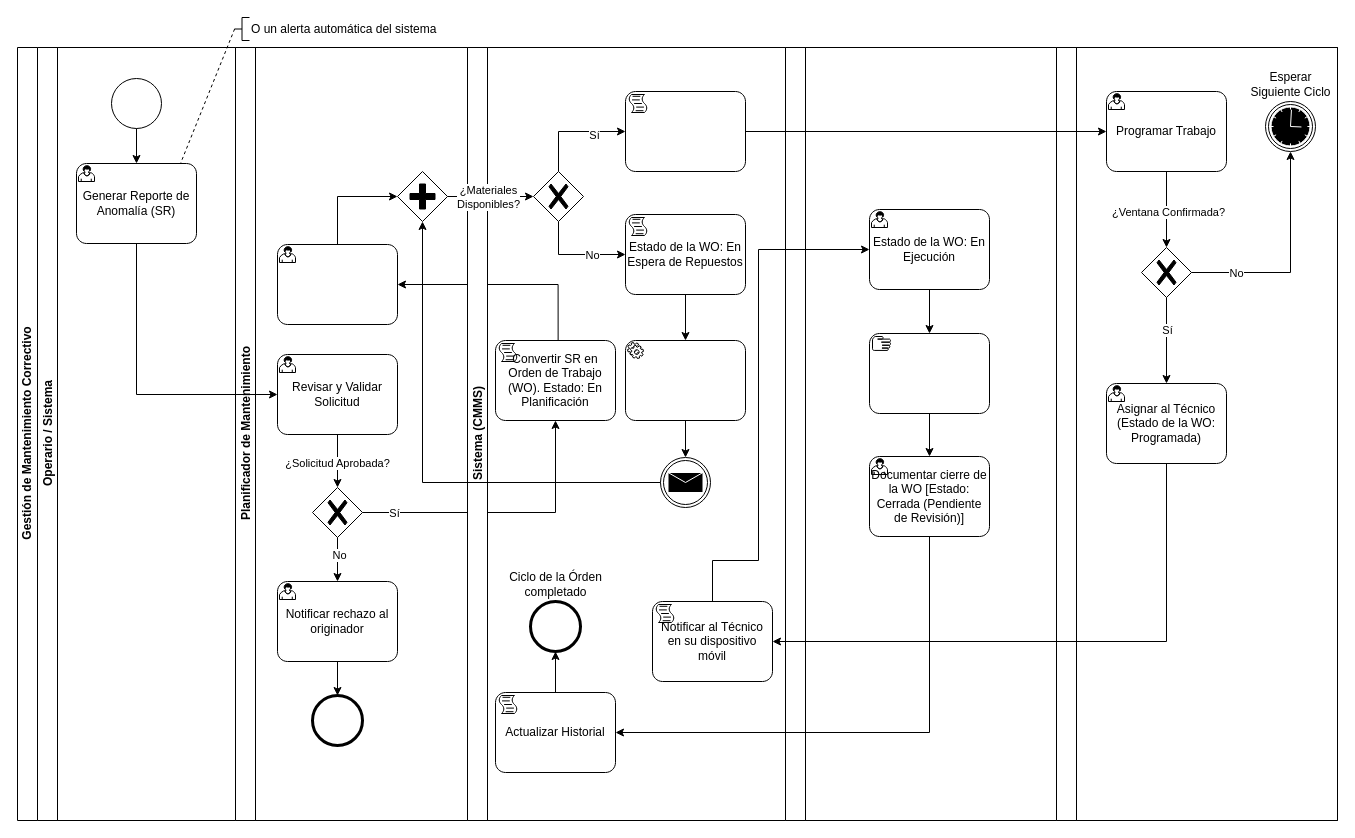
Some shapes in this 1355 by 838 pixel diagram are drawn without their labels. Here are the shapes that lost their labels. From the top down, the box of each, then its label:
(110, 78, 162, 128): Anomalía detectada
(624, 90, 746, 172): Reservar Materiales (Estado de la WO: Lista para Programar)
(276, 244, 398, 324): Definir Plan y BOM
(624, 340, 746, 420): Generar Solicitud de Compra (ERP)
(868, 332, 990, 414): Ejecutar Reparación física
(784, 46, 1056, 820): Técnico de Mantenimiento
(1056, 46, 1338, 820): Programador
(660, 456, 710, 508): Recibir Confirmación de Entrada de Material
(312, 694, 362, 746): Fin del Proceso
